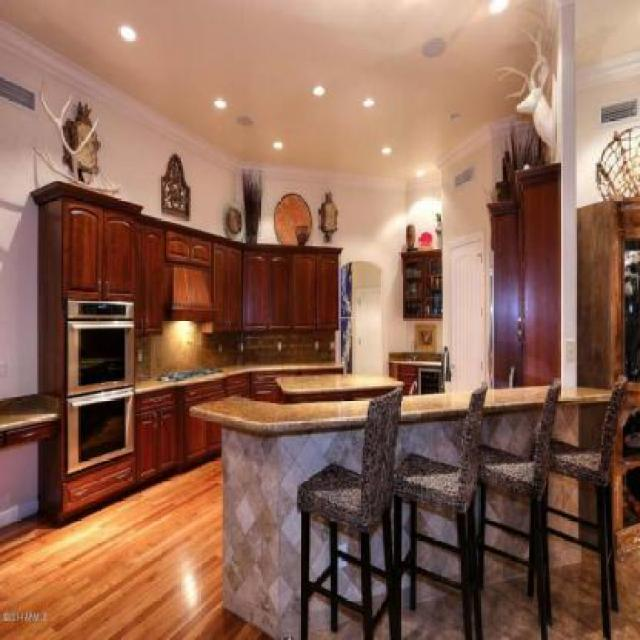Floor: (0, 457, 277, 639), (549, 548, 603, 638), (481, 576, 540, 639), (401, 596, 465, 638), (612, 548, 639, 638), (310, 623, 364, 639), (374, 615, 389, 639)
